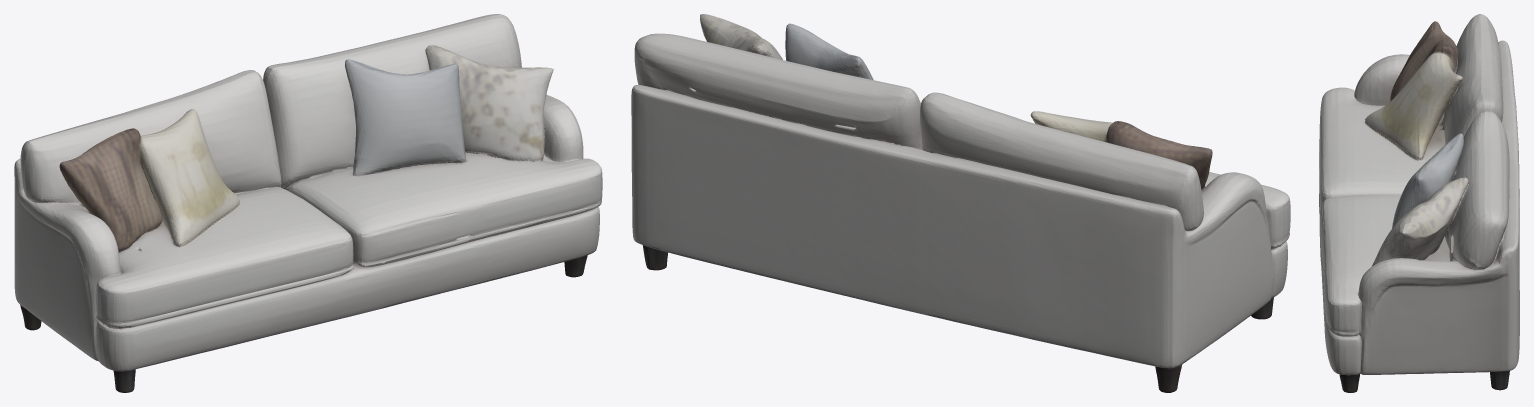
The model's file is sam3d.glb.
The picture shows the model from 3 angles, left to right: view 1: azimuth 30°, elevation 25°; view 2: azimuth 150°, elevation 25°; view 3: azimuth 270°, elevation 25°; orthographic projection. The views are drawn at different scales.
Visible parts, largest first — view 1: world; view 2: world; view 3: world.
Boxes of the visible parts, <box> form: world: <box>14,14,602,392</box>; world: <box>631,14,1290,392</box>; world: <box>1319,14,1519,392</box>.
Size of the model in its own units: 0.9997 by 0.3998 by 0.391.
